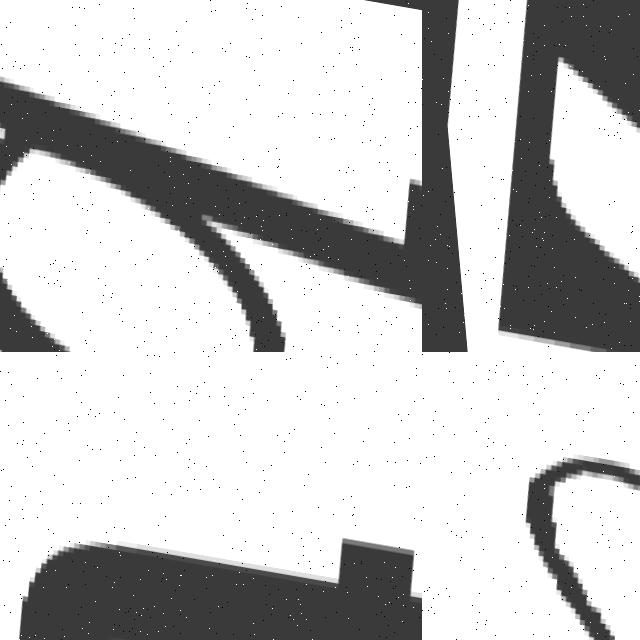B: (0, 76, 422, 352)
G: (422, 396, 640, 640)
T: (0, 472, 422, 640)
Z: (450, 0, 640, 352)
